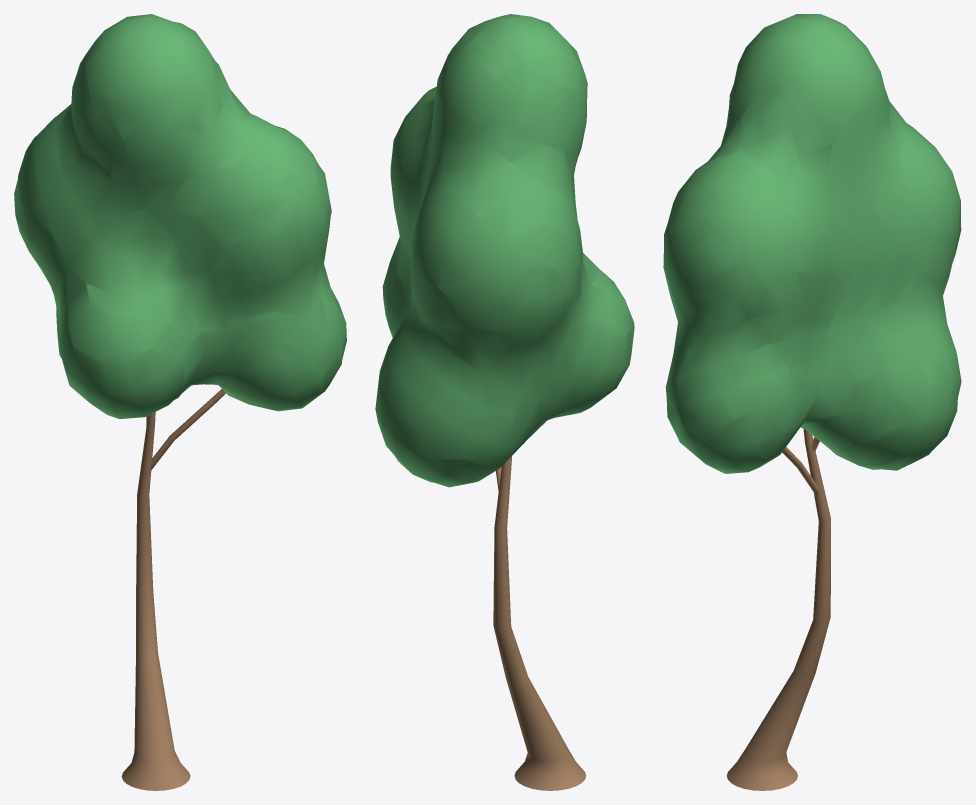
Rendered from Cartoon_Trees_Pack_Tree_12.glb.
3 views of the same model, side by side, from view 1: azimuth 30°, elevation 25°; view 2: azimuth 150°, elevation 25°; view 3: azimuth 270°, elevation 25° (orthographic). The views are drawn at different scales.
Visible parts, largest first — view 1: 02_Leaves, 01_Trunk; view 2: 02_Leaves, 01_Trunk; view 3: 02_Leaves, 01_Trunk.
Boxes of the visible parts, x1,y1,x2,y2 form: 02_Leaves: (14, 14, 346, 418); 01_Trunk: (121, 389, 225, 790); 02_Leaves: (375, 14, 634, 487); 01_Trunk: (493, 456, 585, 790); 02_Leaves: (663, 14, 961, 473); 01_Trunk: (727, 429, 830, 790).
Bounding box in the file's own units: 3.48 × 10 × 3.54.
